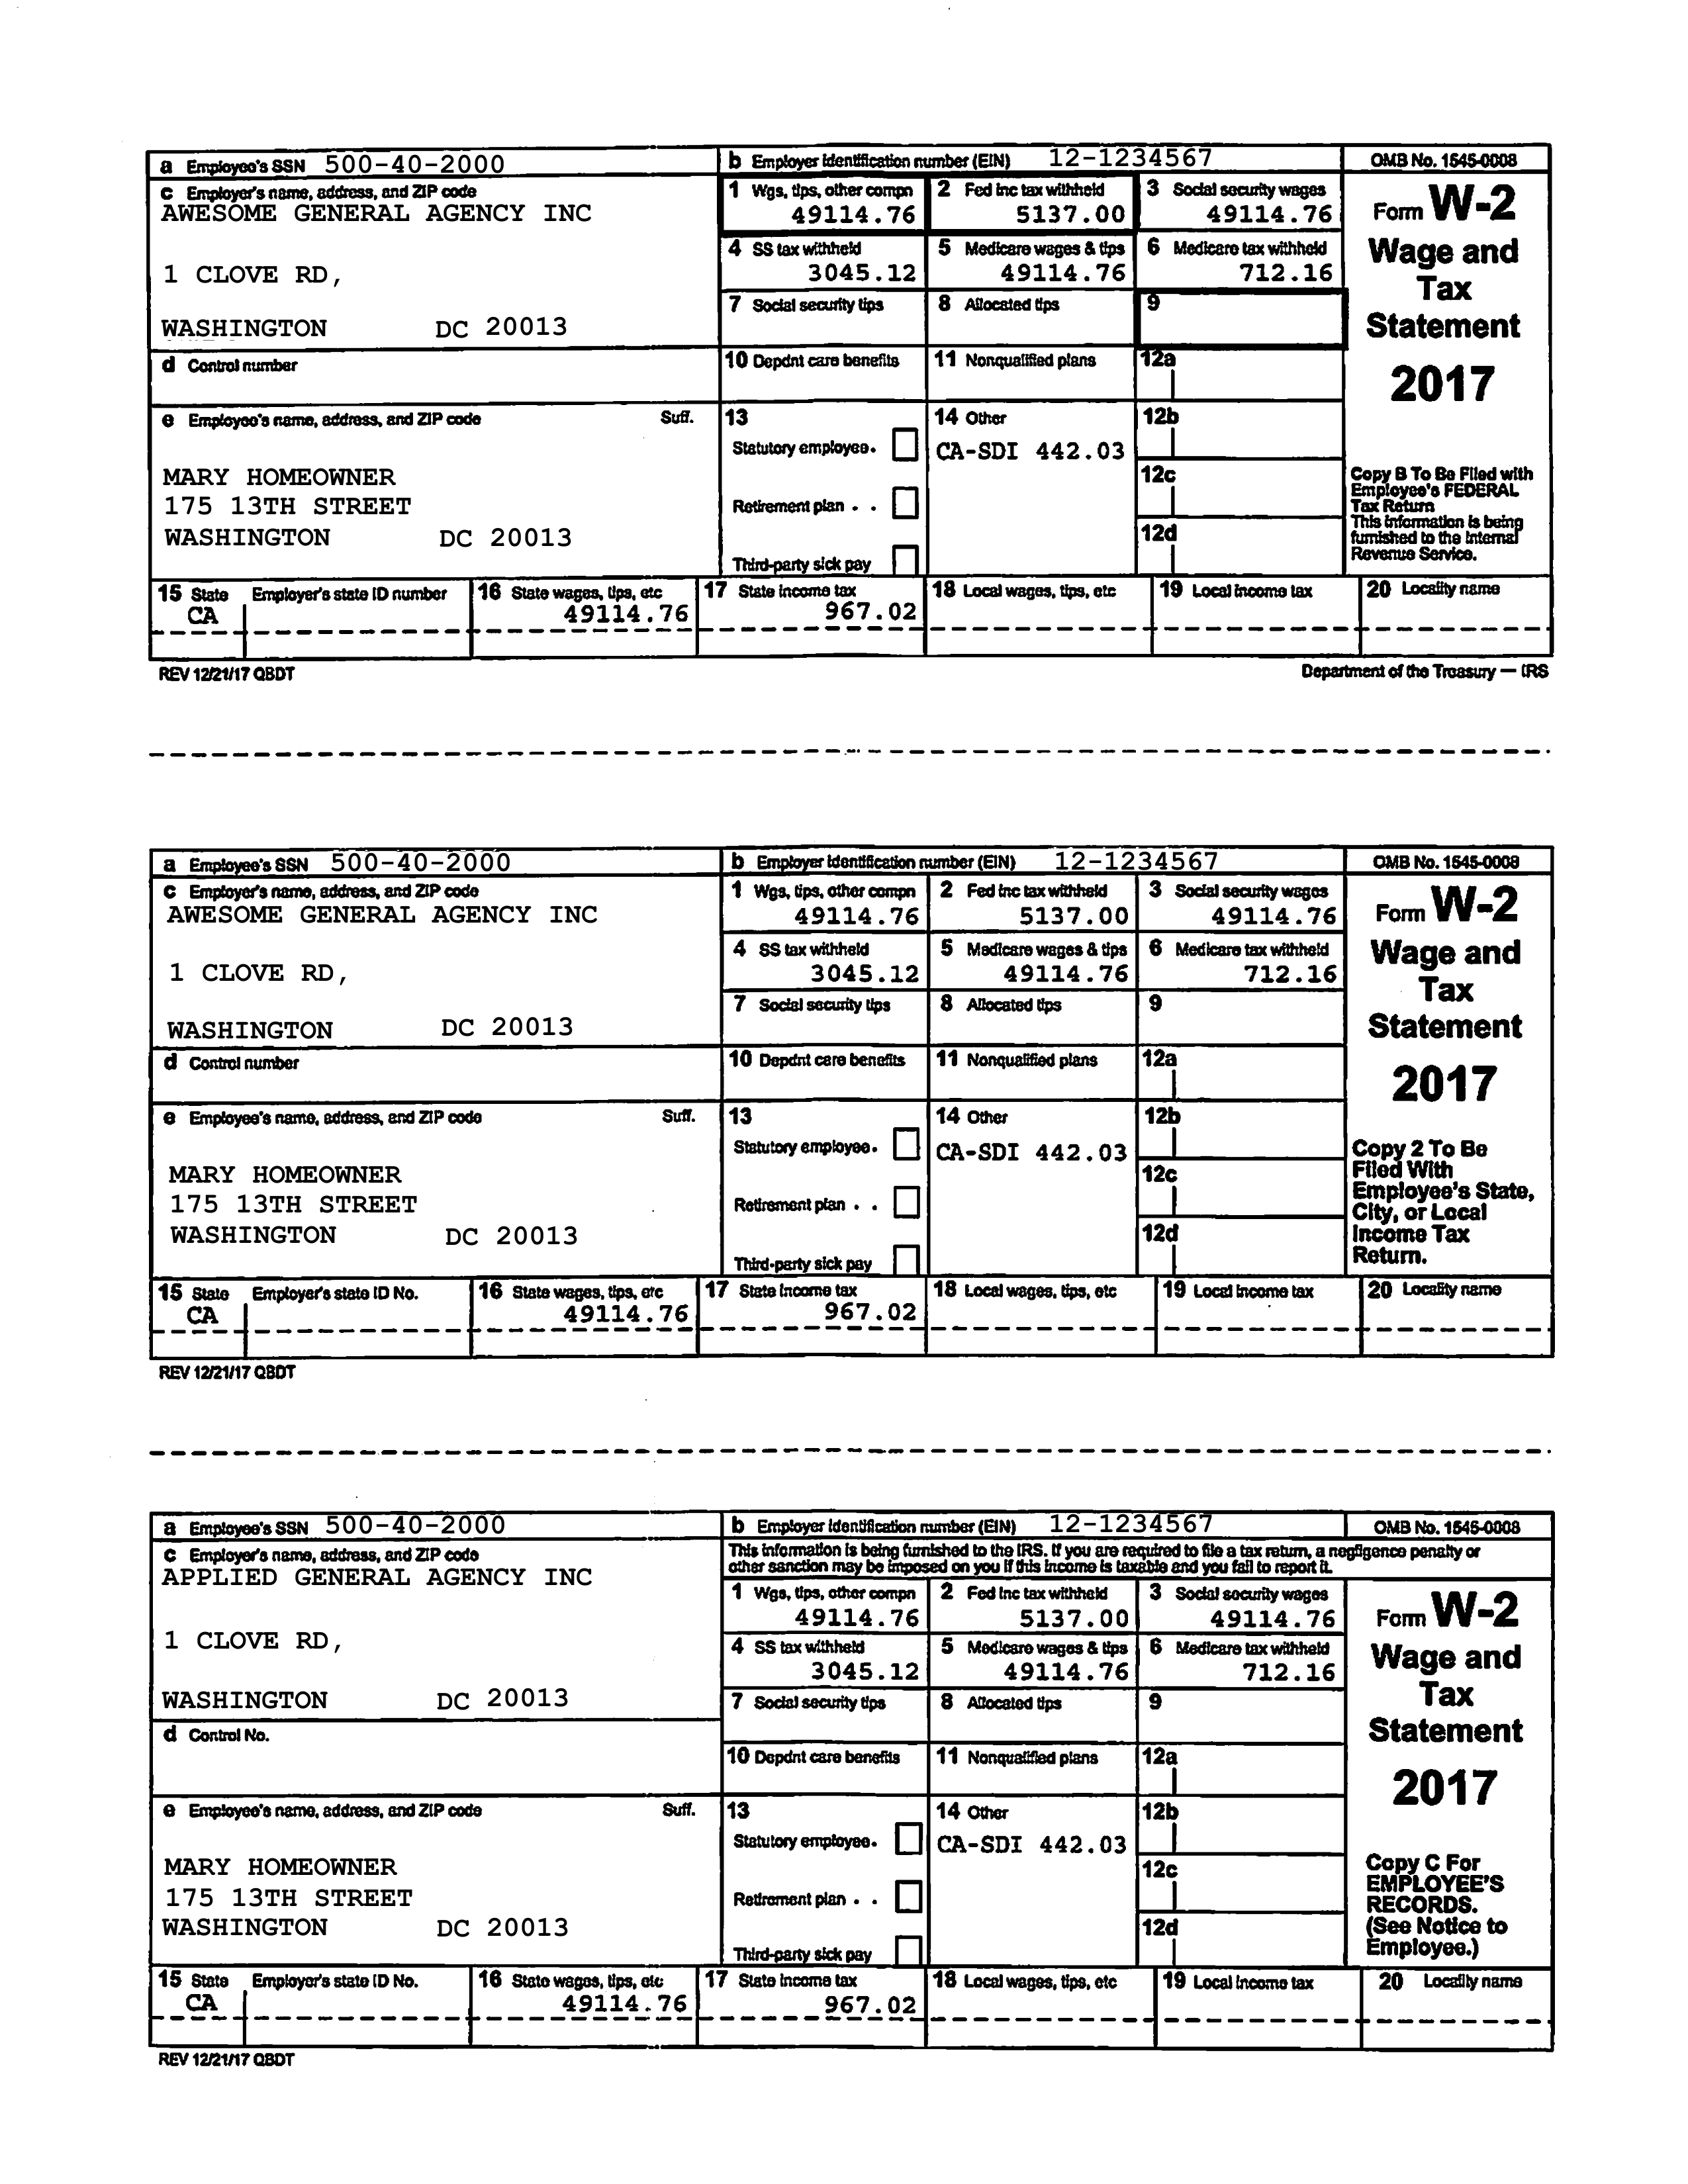table: (151, 1510, 1557, 2051), (147, 147, 1553, 658), (149, 849, 1555, 1360)
